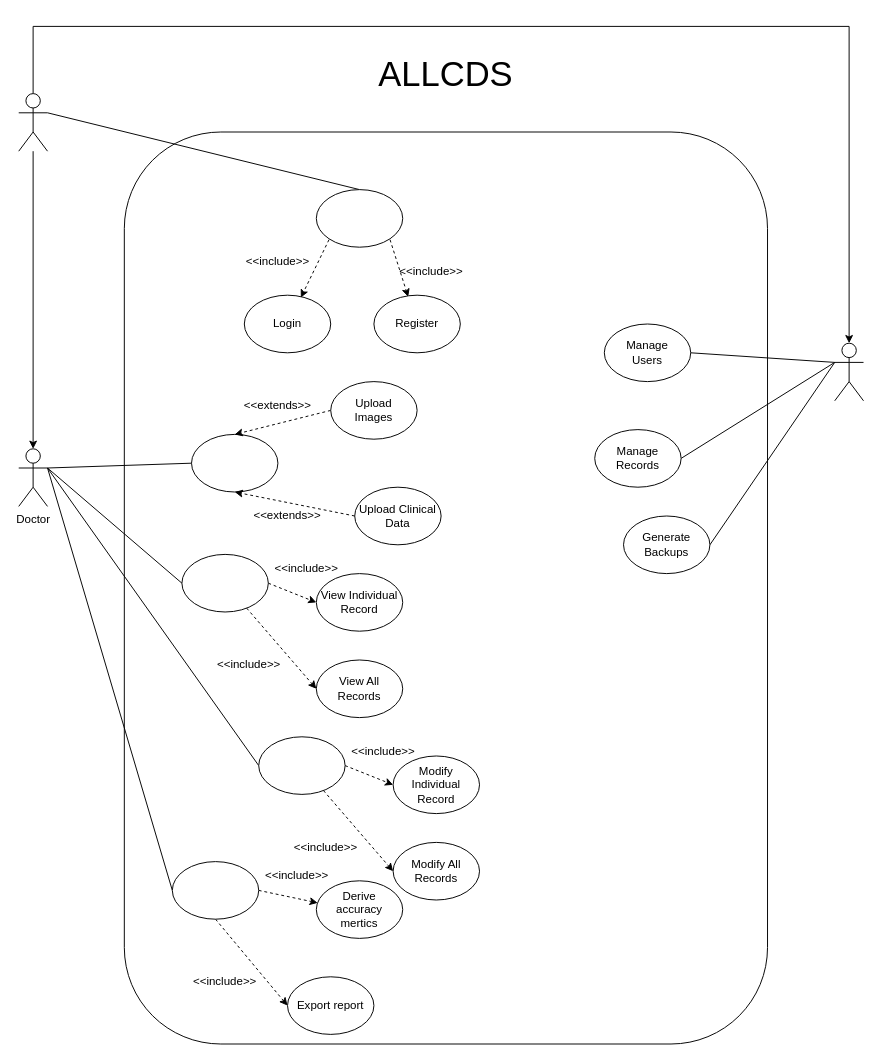
This 882x1061 diagram has some shape labels left out. The shapes that lost their labels are listed below. From the top down, each one's centre as x and y in pixels, then its label:
At (33,122): "User".
At (359,218): "Aurhenticate".
At (849,371): "Admin".
At (234,462): "Insert Details".
At (224,582): "View Deails".
At (301,765): "Modify Deails".
At (215,890): "Diagnose".
